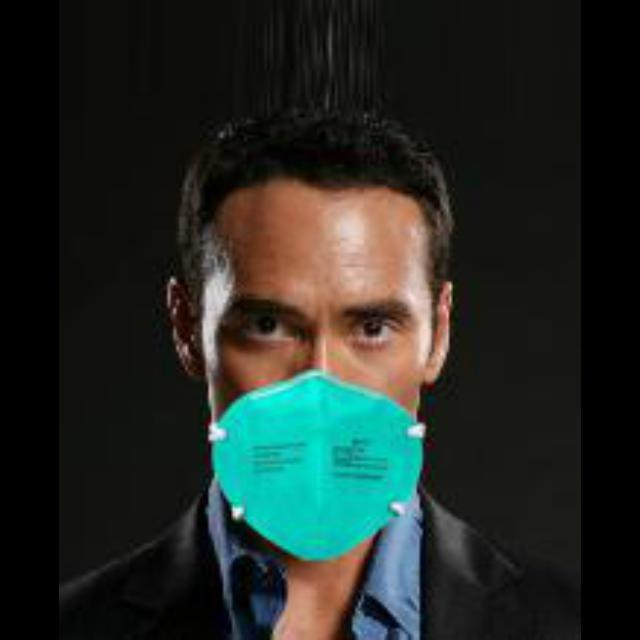suspicion: (142, 114, 480, 522)
